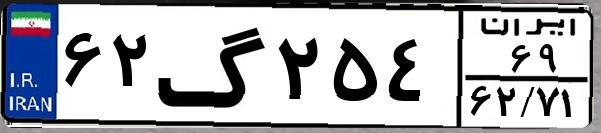1: (560, 70, 590, 125)
2: (270, 28, 330, 110), (110, 28, 156, 98), (495, 70, 520, 125)
4: (385, 28, 445, 110)
5: (330, 28, 385, 110)
6: (57, 26, 110, 100), (508, 27, 537, 80), (470, 70, 495, 125)
7: (535, 70, 560, 125)
9: (537, 27, 568, 80)
گ: (156, 12, 270, 120)
